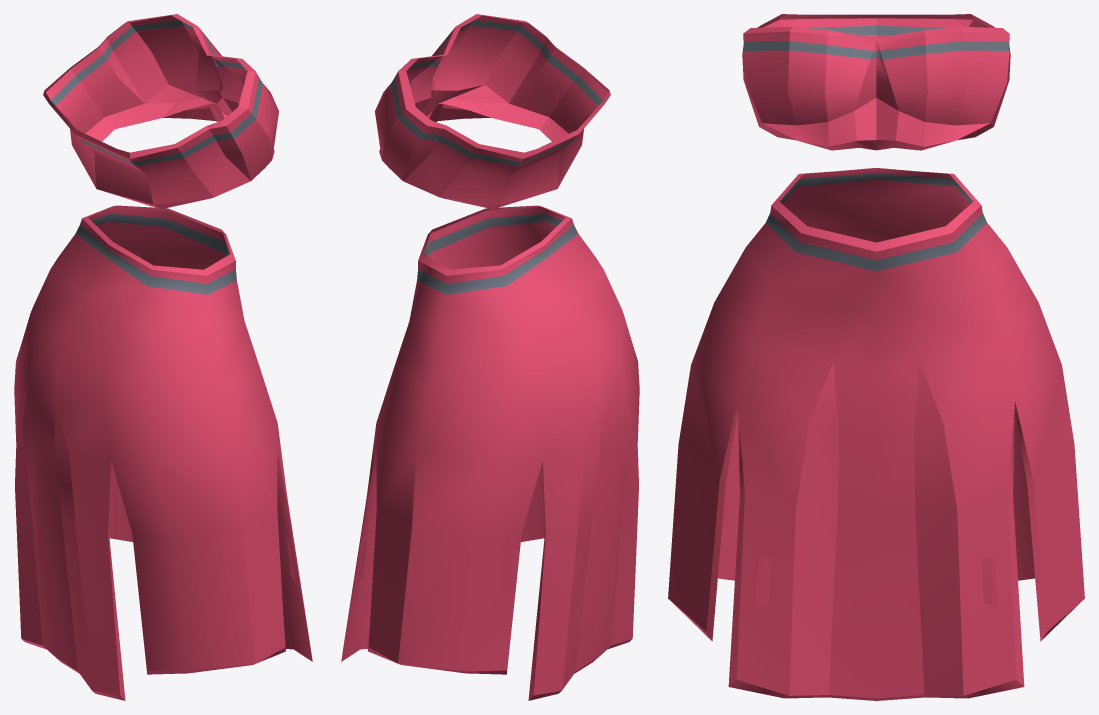
Rendered from Lu_TBlouse_003.fbx.
3 renders of one model, left to right at view 1: azimuth 30°, elevation 25°; view 2: azimuth 150°, elevation 25°; view 3: azimuth 270°, elevation 25°, orthographic. The views are drawn at different scales.
Parts seen in each view (by area): view 1: Lu_TBlouse_003; view 2: Lu_TBlouse_003; view 3: Lu_TBlouse_003.
Part boxes in pixels (x1=…): Lu_TBlouse_003: x1=14, y1=14, x2=312, y2=700; Lu_TBlouse_003: x1=341, y1=14, x2=639, y2=700; Lu_TBlouse_003: x1=668, y1=14, x2=1084, y2=700.
Size of the model in its own units: 2559 by 6705 by 3829.
